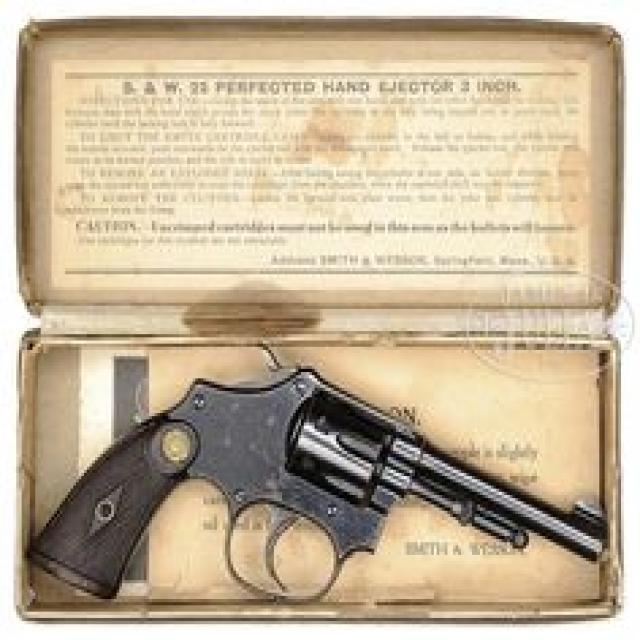revolver: (24, 339, 622, 621)
